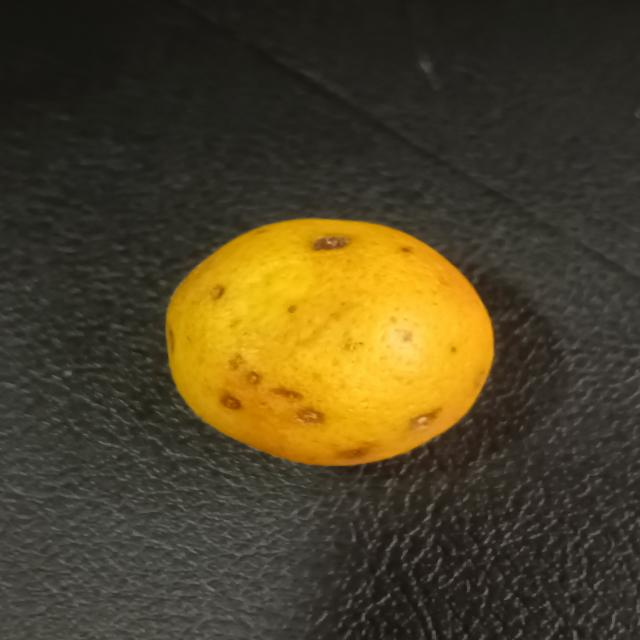black spot: (160, 212, 497, 465)
